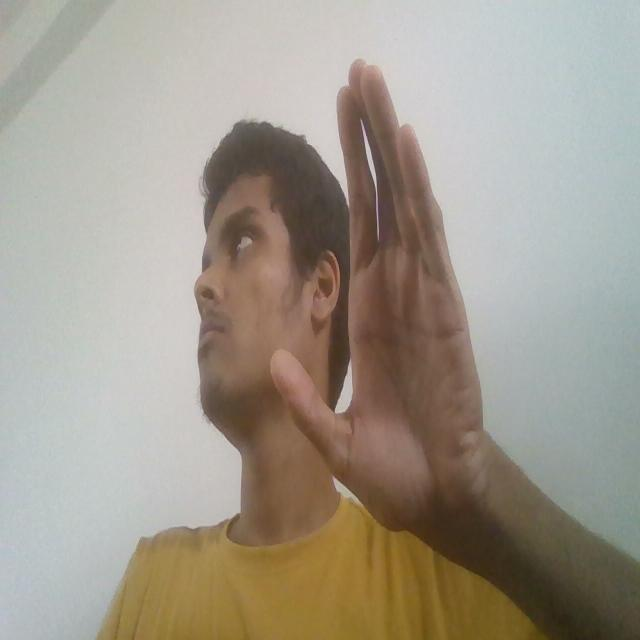Hello: (264, 17, 520, 593)
